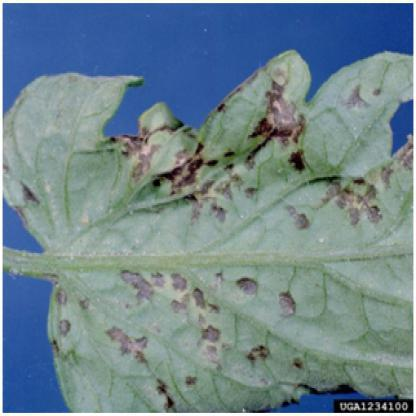Tomato leaf late blight: (5, 48, 415, 402)
